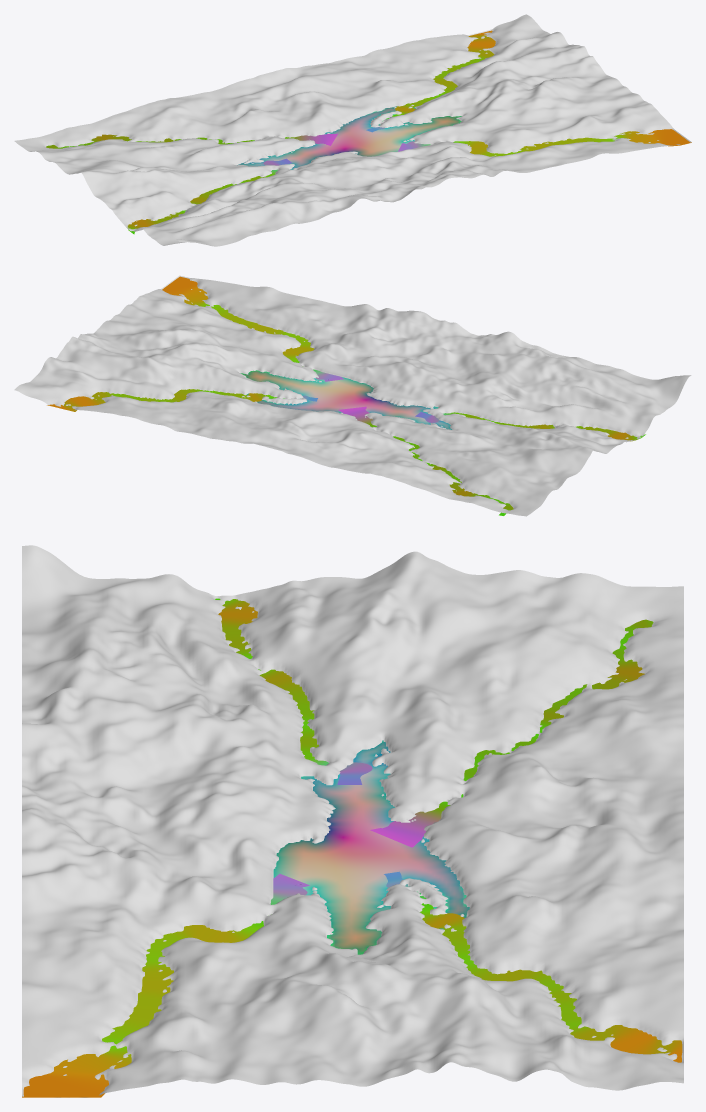
File: terrain-original.glb
3 views of the same model, one above another, from view 1: azimuth 30°, elevation 25°; view 2: azimuth 150°, elevation 25°; view 3: azimuth 270°, elevation 25° (orthographic). The views are drawn at different scales.
Visible parts, largest first — view 1: Terrain_Forest_Land, Lake_Central, River_03_Private_SE, River_02_Public_NE, River_04_Derivatives_SW, River_01_Quant_NW; view 2: Terrain_Forest_Land, Lake_Central, River_03_Private_SE, River_02_Public_NE, River_01_Quant_NW, River_04_Derivatives_SW; view 3: Terrain_Forest_Land, Lake_Central, River_03_Private_SE, River_02_Public_NE, River_01_Quant_NW, River_04_Derivatives_SW.
Part boxes in pixels (left/top/right/bottom): Terrain_Forest_Land: left=14, top=14, right=691, bottom=246; Lake_Central: left=237, top=106, right=461, bottom=169; River_03_Private_SE: left=398, top=129, right=691, bottom=156; River_02_Public_NE: left=366, top=30, right=495, bottom=132; River_04_Derivatives_SW: left=127, top=158, right=292, bottom=234; River_01_Quant_NW: left=46, top=133, right=337, bottom=148; Terrain_Forest_Land: left=14, top=275, right=691, bottom=516; Lake_Central: left=240, top=370, right=451, bottom=429; River_03_Private_SE: left=162, top=276, right=344, bottom=381; River_02_Public_NE: left=47, top=389, right=317, bottom=411; River_01_Quant_NW: left=338, top=406, right=513, bottom=515; River_04_Derivatives_SW: left=415, top=412, right=645, bottom=441; Terrain_Forest_Land: left=22, top=545, right=683, bottom=1096; Lake_Central: left=273, top=740, right=469, bottom=954; River_03_Private_SE: left=22, top=874, right=309, bottom=1097; River_02_Public_NE: left=384, top=871, right=682, bottom=1062; River_01_Quant_NW: left=370, top=619, right=653, bottom=847; River_04_Derivatives_SW: left=215, top=598, right=372, bottom=784.
Size of the model in its own units: 14 by 0.7524 by 7.83.
